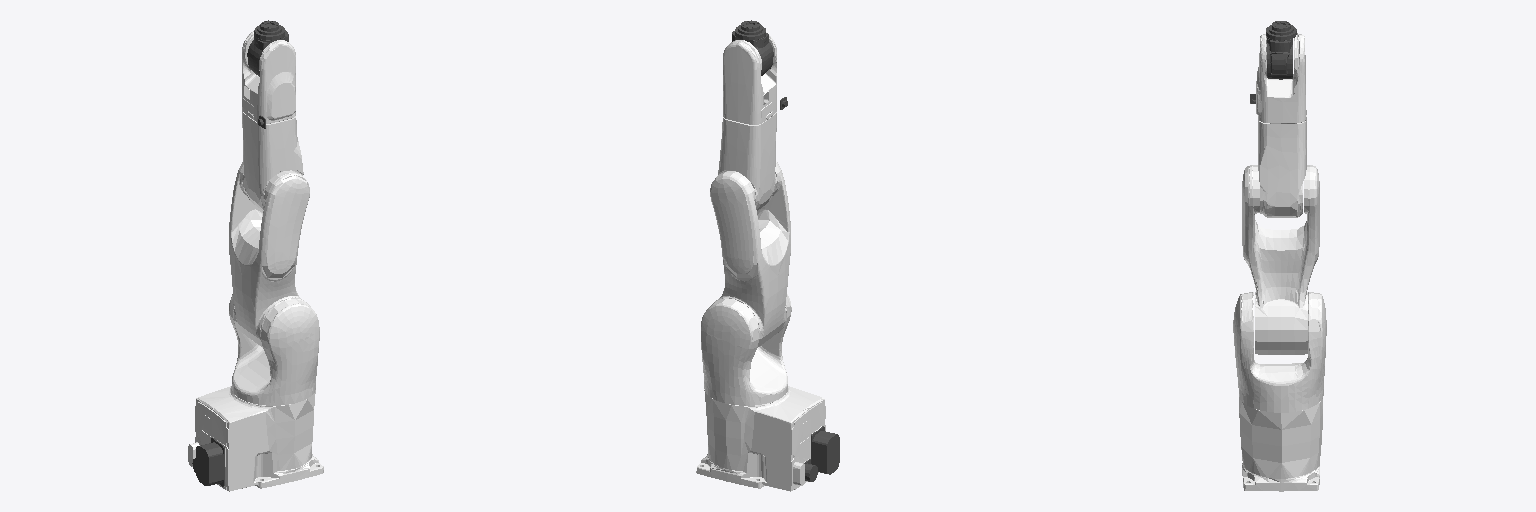
The robot description file, URDF, robot "vs060":
<robot name="vs060">
	<gazebo>
		<plugin filename="libgazebo_ros_control.so" name="gazebo_ros_control">
			<robotNamespace>/vs060</robotNamespace>
		</plugin>
	</gazebo>
	<link name="world" />
	<joint name="joint_w" type="fixed">
		<parent link="world" />
		<child link="base_link" />
	</joint>
	<link name="base_link">
		<visual>
			<origin rpy="0 0 0" xyz="0 0 0" />
			<geometry>
				<mesh filename="package://denso_robot_descriptions/vs060_description/base_link.dae" scale="1 1 1" />
			</geometry>
		</visual>
		<collision>
			<origin rpy="0 0 0" xyz="0 0 0" />
			<geometry>
				<mesh filename="package://denso_robot_descriptions/vs060_description/base_link.dae" scale="1 1 1" />
			</geometry>
		</collision>
		<inertial>
			<mass value="1" />
			<origin rpy="0.000000 0.000000 0.000000" xyz="0.000000 0.000000 0.000000" />
			<inertia ixx="1" ixy="0" ixz="0" iyy="1" iyz="0" izz="1" />
		</inertial>
	</link>
	<link name="J1">
		<visual>
			<origin rpy="0 0 0" xyz="0 0 0" />
			<geometry>
				<mesh filename="package://denso_robot_descriptions/vs060_description/J1.dae" scale="1 1 1" />
			</geometry>
		</visual>
		<collision>
			<origin rpy="0 0 0" xyz="0 0 0" />
			<geometry>
				<mesh filename="package://denso_robot_descriptions/vs060_description/J1.dae" scale="1 1 1" />
			</geometry>
		</collision>
		<inertial>
			<mass value="1" />
			<origin rpy="0.000000 0.000000 0.000000" xyz="0.000000 0.000000 0.000000" />
			<inertia ixx="1" ixy="0" ixz="0" iyy="1" iyz="0" izz="1" />
		</inertial>
	</link>
	<joint name="joint_1" type="revolute">
		<parent link="base_link" />
		<child link="J1" />
		<origin rpy="0.000000 0.000000 0.000000" xyz="0.000000 0.000000 0.181500" />
		<axis xyz="-0.000000 -0.000000 1.000000" />
		<limit effort="1" lower="-2.94960" upper="2.94960" velocity="3.92699081698724" />
		<dynamics damping="0" friction="0" />
	</joint>
	<transmission name="trans_1">
		<type>transmission_interface/SimpleTransmission</type>
		<joint name="joint_1">
			<hardwareInterface>hardware_interface/PositionJointInterface</hardwareInterface>
		</joint>
		<actuator name="motor_1">
			<hardwareInterface>hardware_interface/PositionJointInterface</hardwareInterface>
			<mechanicalReduction>1</mechanicalReduction>
		</actuator>
	</transmission>
	<link name="J2">
		<visual>
			<origin rpy="0 0 0" xyz="0 0 0" />
			<geometry>
				<mesh filename="package://denso_robot_descriptions/vs060_description/J2.dae" scale="1 1 1" />
			</geometry>
		</visual>
		<collision>
			<origin rpy="0 0 0" xyz="0 0 0" />
			<geometry>
				<mesh filename="package://denso_robot_descriptions/vs060_description/J2.dae" scale="1 1 1" />
			</geometry>
		</collision>
		<inertial>
			<mass value="1" />
			<origin rpy="0.000000 0.000000 0.000000" xyz="0.000000 0.000000 0.000000" />
			<inertia ixx="1" ixy="0" ixz="0" iyy="1" iyz="0" izz="1" />
		</inertial>
	</link>
	<joint name="joint_2" type="revolute">
		<parent link="J1" />
		<child link="J2" />
		<origin rpy="0.000000 0.000000 0.000000" xyz="0.000000 0.000000 0.163500" />
		<axis xyz="-0.000000 1.000000 -0.000000" />
		<limit effort="1" lower="-1.55334" upper="1.55334" velocity="2.61799387799149" />
		<dynamics damping="0" friction="0" />
	</joint>
	<transmission name="trans_2">
		<type>transmission_interface/SimpleTransmission</type>
		<joint name="joint_2">
			<hardwareInterface>hardware_interface/PositionJointInterface</hardwareInterface>
		</joint>
		<actuator name="motor_2">
			<hardwareInterface>hardware_interface/PositionJointInterface</hardwareInterface>
			<mechanicalReduction>1</mechanicalReduction>
		</actuator>
	</transmission>
	<link name="J3">
		<visual>
			<origin rpy="0 0 0" xyz="0 0 0" />
			<geometry>
				<mesh filename="package://denso_robot_descriptions/vs060_description/J3.dae" scale="1 1 1" />
			</geometry>
		</visual>
		<collision>
			<origin rpy="0 0 0" xyz="0 0 0" />
			<geometry>
				<mesh filename="package://denso_robot_descriptions/vs060_description/J3.dae" scale="1 1 1" />
			</geometry>
		</collision>
		<inertial>
			<mass value="1" />
			<origin rpy="0.000000 0.000000 0.000000" xyz="0.000000 0.000000 0.000000" />
			<inertia ixx="1" ixy="0" ixz="0" iyy="1" iyz="0" izz="1" />
		</inertial>
	</link>
	<joint name="joint_3" type="revolute">
		<parent link="J2" />
		<child link="J3" />
		<origin rpy="0.000000 0.000000 0.000000" xyz="0.000000 0.000000 0.305000" />
		<axis xyz="-0.000000 1.000000 -0.000000" />
		<limit effort="1" lower="-0.50614" upper="2.61799" velocity="2.85832571599111" />
		<dynamics damping="0" friction="0" />
	</joint>
	<transmission name="trans_3">
		<type>transmission_interface/SimpleTransmission</type>
		<joint name="joint_3">
			<hardwareInterface>hardware_interface/PositionJointInterface</hardwareInterface>
		</joint>
		<actuator name="motor_3">
			<hardwareInterface>hardware_interface/PositionJointInterface</hardwareInterface>
			<mechanicalReduction>1</mechanicalReduction>
		</actuator>
	</transmission>
	<link name="J4">
		<visual>
			<origin rpy="0 0 0" xyz="0 0 0" />
			<geometry>
				<mesh filename="package://denso_robot_descriptions/vs060_description/J4.dae" scale="1 1 1" />
			</geometry>
		</visual>
		<collision>
			<origin rpy="0 0 0" xyz="0 0 0" />
			<geometry>
				<mesh filename="package://denso_robot_descriptions/vs060_description/J4.dae" scale="1 1 1" />
			</geometry>
		</collision>
		<inertial>
			<mass value="1" />
			<origin rpy="0.000000 0.000000 0.000000" xyz="0.000000 0.000000 0.000000" />
			<inertia ixx="1" ixy="0" ixz="0" iyy="1" iyz="0" izz="1" />
		</inertial>
	</link>
	<joint name="joint_4" type="revolute">
		<parent link="J3" />
		<child link="J4" />
		<origin rpy="0.000000 0.000000 0.000000" xyz="-0.010000 0.000000 0.164500" />
		<axis xyz="-0.000000 -0.000000 1.000000" />
		<limit effort="1" lower="-2.07694" upper="2.07694" velocity="3.92699081698724" />
		<dynamics damping="0" friction="0" />
	</joint>
	<transmission name="trans_4">
		<type>transmission_interface/SimpleTransmission</type>
		<joint name="joint_4">
			<hardwareInterface>hardware_interface/PositionJointInterface</hardwareInterface>
		</joint>
		<actuator name="motor_4">
			<hardwareInterface>hardware_interface/PositionJointInterface</hardwareInterface>
			<mechanicalReduction>1</mechanicalReduction>
		</actuator>
	</transmission>
	<link name="J5">
		<visual>
			<origin rpy="0 0 0" xyz="0 0 0" />
			<geometry>
				<mesh filename="package://denso_robot_descriptions/vs060_description/J5.dae" scale="1 1 1" />
			</geometry>
		</visual>
		<collision>
			<origin rpy="0 0 0" xyz="0 0 0" />
			<geometry>
				<mesh filename="package://denso_robot_descriptions/vs060_description/J5.dae" scale="1 1 1" />
			</geometry>
		</collision>
		<inertial>
			<mass value="1" />
			<origin rpy="0.000000 0.000000 0.000000" xyz="0.000000 0.000000 0.000000" />
			<inertia ixx="1" ixy="0" ixz="0" iyy="1" iyz="0" izz="1" />
		</inertial>
	</link>
	<joint name="joint_5" type="revolute">
		<parent link="J4" />
		<child link="J5" />
		<origin rpy="0.000000 0.000000 0.000000" xyz="0.000000 0.000000 0.135500" />
		<axis xyz="-0.000000 1.000000 -0.000000" />
		<limit effort="1" lower="-1.55334" upper="1.55334" velocity="3.02168853397778" />
		<dynamics damping="0" friction="0" />
	</joint>
	<transmission name="trans_5">
		<type>transmission_interface/SimpleTransmission</type>
		<joint name="joint_5">
			<hardwareInterface>hardware_interface/PositionJointInterface</hardwareInterface>
		</joint>
		<actuator name="motor_5">
			<hardwareInterface>hardware_interface/PositionJointInterface</hardwareInterface>
			<mechanicalReduction>1</mechanicalReduction>
		</actuator>
	</transmission>
	<link name="J6">
		<visual>
			<origin rpy="0 0 0" xyz="0 0 0" />
			<geometry>
				<mesh filename="package://denso_robot_descriptions/vs060_description/J6.dae" scale="1 1 1" />
			</geometry>
		</visual>
		<collision>
			<origin rpy="0 0 0" xyz="0 0 0" />
			<geometry>
				<mesh filename="package://denso_robot_descriptions/vs060_description/J6.dae" scale="1 1 1" />
			</geometry>
		</collision>
		<inertial>
			<mass value="1" />
			<origin rpy="0.000000 0.000000 0.000000" xyz="0.000000 0.000000 0.000000" />
			<inertia ixx="1" ixy="0" ixz="0" iyy="1" iyz="0" izz="1" />
		</inertial>
	</link>
	<joint name="joint_6" type="revolute">
		<parent link="J5" />
		<child link="J6" />
		<origin rpy="0.000000 0.000000 0.000000" xyz="0.000000 0.000000 0.070000" />
		<axis xyz="-0.000000 -0.000000 1.000000" />
		<limit effort="1" lower="-3.12413" upper="3.12413" velocity="6.28318530717959" />
		<dynamics damping="0" friction="0" />
	</joint>
	<transmission name="trans_6">
		<type>transmission_interface/SimpleTransmission</type>
		<joint name="joint_6">
			<hardwareInterface>hardware_interface/PositionJointInterface</hardwareInterface>
		</joint>
		<actuator name="motor_6">
			<hardwareInterface>hardware_interface/PositionJointInterface</hardwareInterface>
			<mechanicalReduction>1</mechanicalReduction>
		</actuator>
	</transmission>
</robot>

--- Facts derived from the render (not from the file) ---
Views: 3 orthographic renders of the robot side by side, from view 1: azimuth 30°, elevation 25°; view 2: azimuth 150°, elevation 25°; view 3: azimuth 270°, elevation 25°.
Robot: vs060 — 8 links, 7 joints (6 revolute, 1 fixed); root link world; default pose: all joints at 0.
Visible links, largest first — view 1: base_link, J2, J1, J4, J3, J5; view 2: base_link, J2, J1, J4, J3, J5; view 3: J2, base_link, J1, J3, J4, J5.
Link boxes in pixels (<box>): base_link: <box>188,386,323,491</box>; J2: <box>229,162,309,347</box>; J1: <box>229,294,319,405</box>; J4: <box>242,31,295,128</box>; J3: <box>242,112,303,210</box>; J5: <box>247,25,288,76</box>; base_link: <box>696,386,839,491</box>; J2: <box>710,161,790,347</box>; J1: <box>701,294,791,405</box>; J4: <box>723,32,787,124</box>; J3: <box>718,112,777,210</box>; J5: <box>732,24,773,75</box>; J2: <box>1242,165,1319,354</box>; base_link: <box>1239,397,1322,491</box>; J1: <box>1233,292,1326,412</box>; J3: <box>1258,115,1306,217</box>; J4: <box>1250,33,1306,123</box>; J5: <box>1266,25,1296,79</box>.
Bounding box of the posed robot: 0.278 × 0.1922 × 1.02 m (x, y, z).
Meshes: 7 distinct files referenced, 7 mesh visuals loaded (7 Collada DAE).